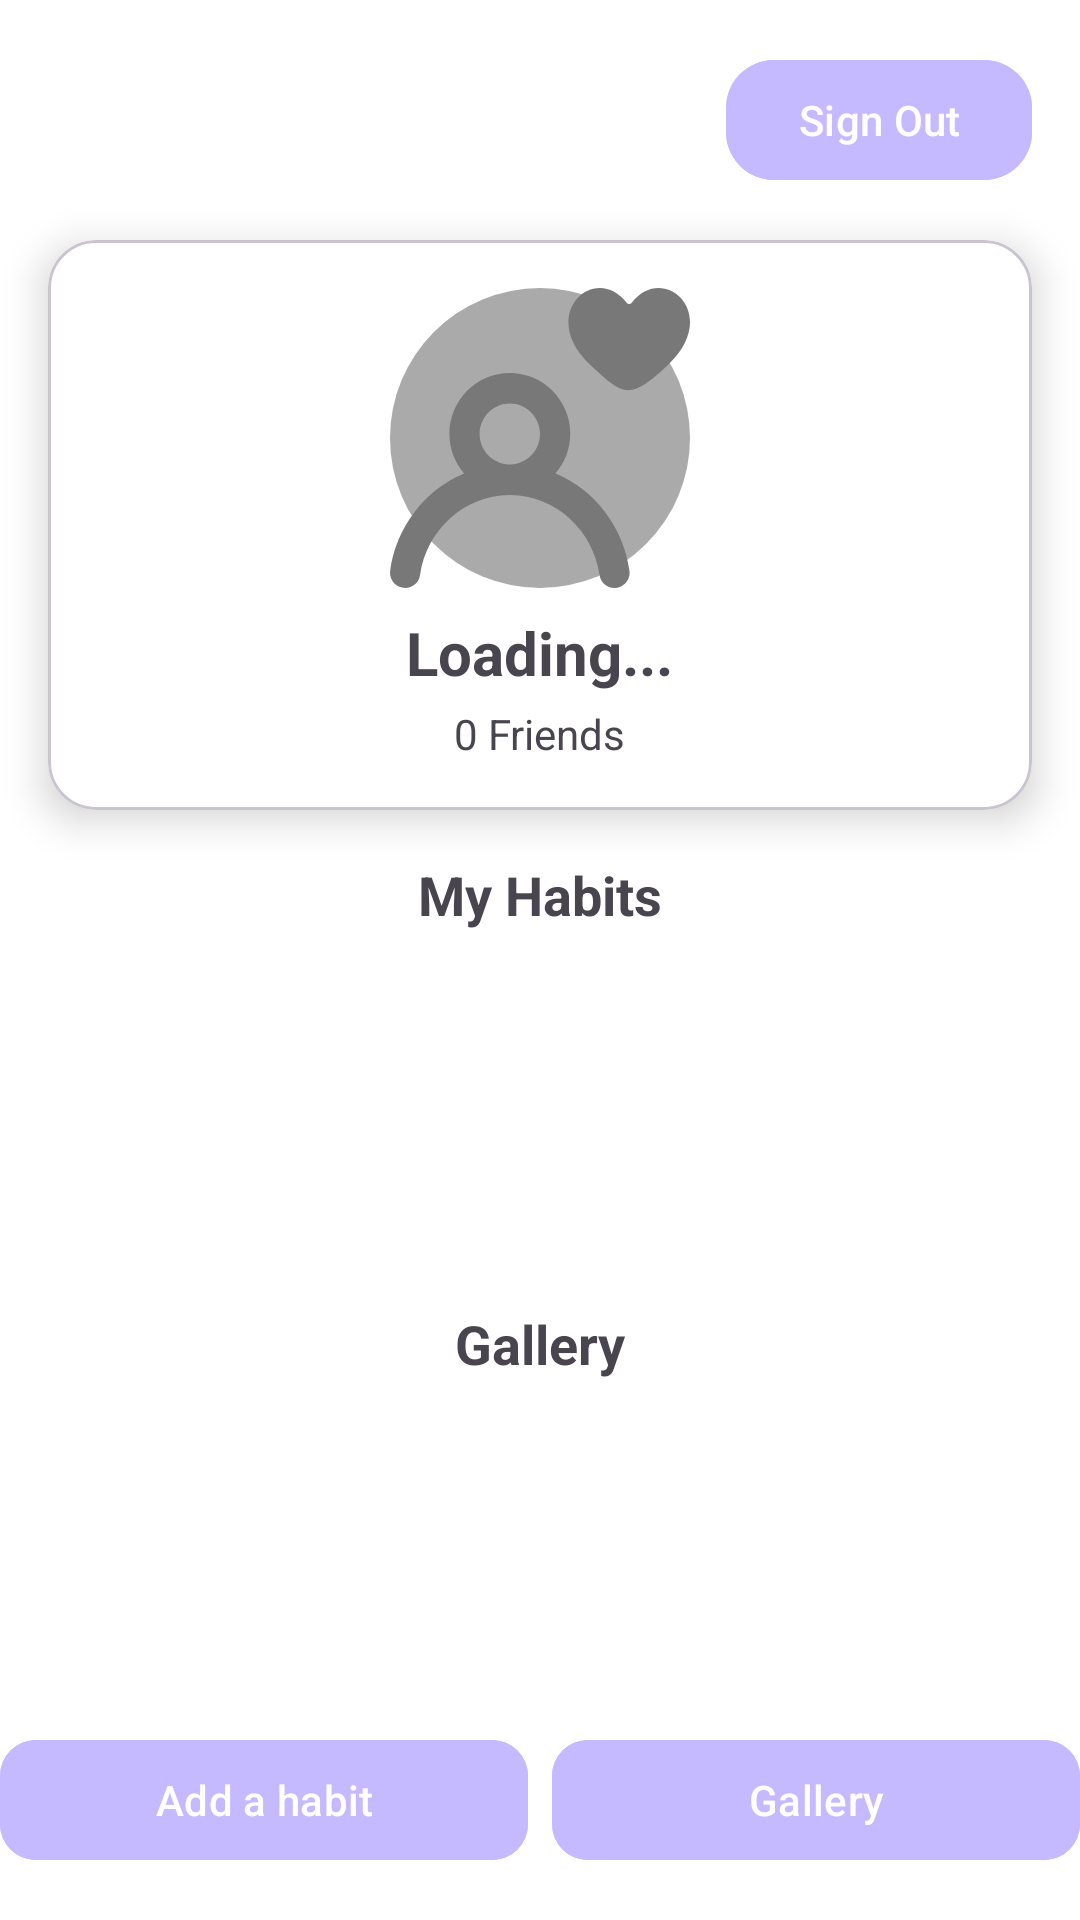

Locate icon controls on the screen. Image size 1080x1920, boxes as (x1, y1, x2, y2).
profile: (390, 288, 690, 588)
